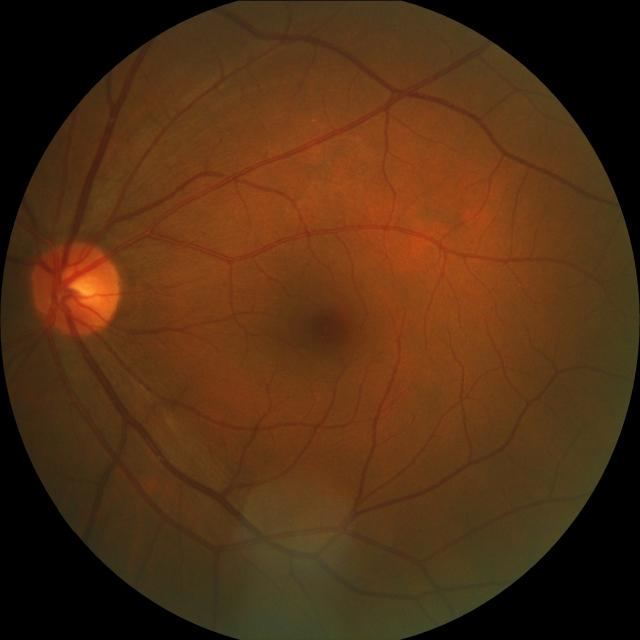OC: (58, 267, 96, 308)
OD: (34, 239, 120, 333)
